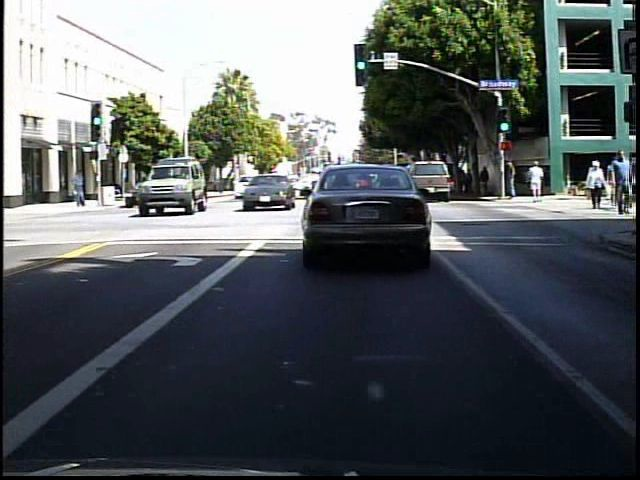person: (610, 151, 633, 217), (582, 160, 609, 211), (498, 157, 518, 206), (525, 160, 545, 206), (73, 170, 91, 209), (477, 166, 492, 198), (463, 167, 476, 199)
